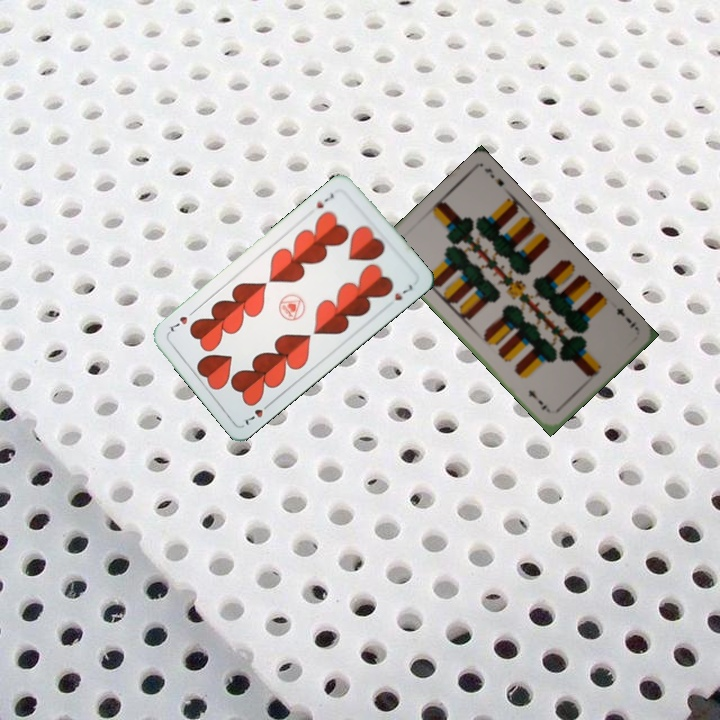E7: (612, 304, 639, 331)
H7: (241, 398, 274, 428), (312, 189, 337, 211)
